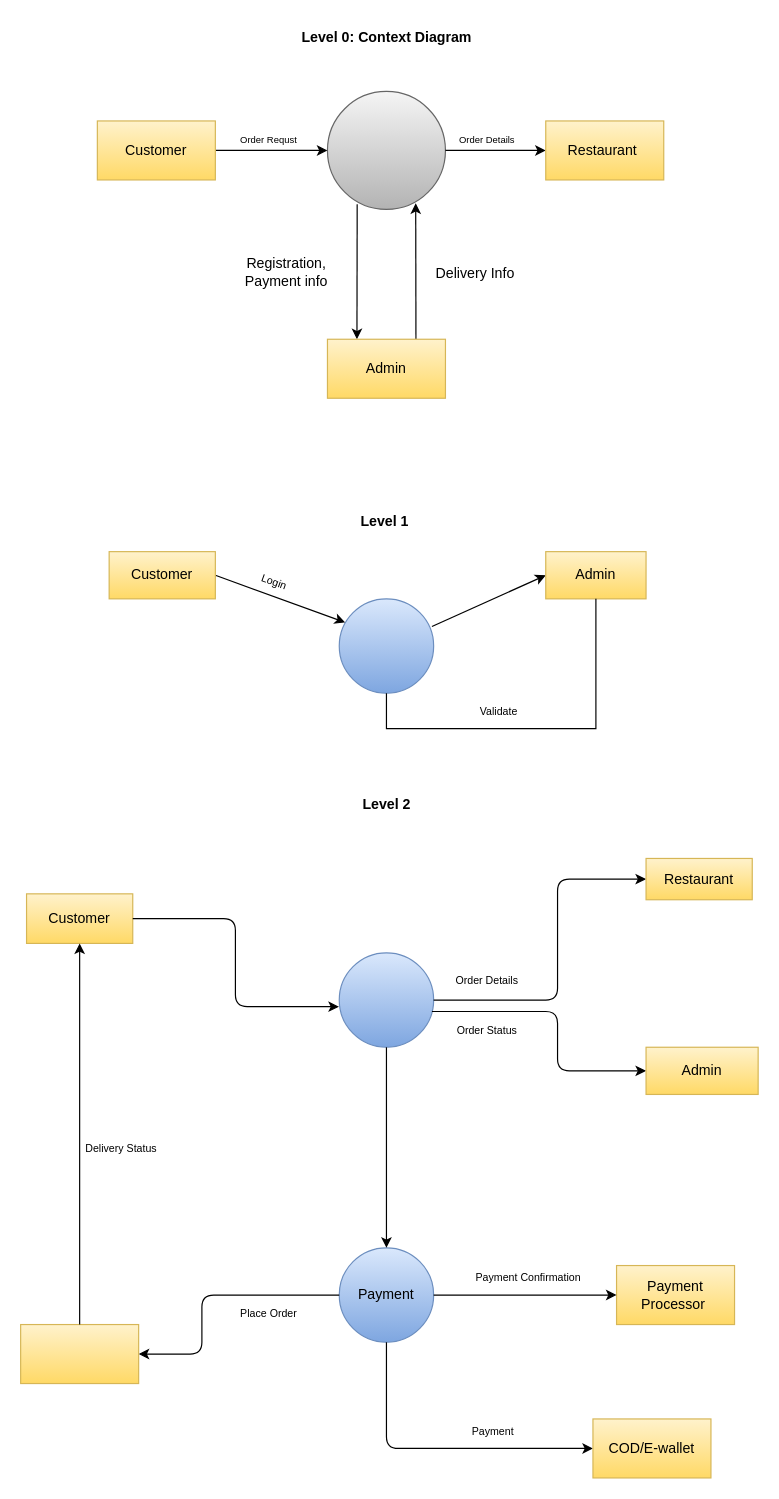
Some shapes in this 779 by 1499 pixel diagram are drawn without their labels. The centre of each missing label's shape, as x and y in pixels:
"CRAVECART" belongs at pixel 385 149.
"Order" belongs at pixel 386 999.
"Registration" belongs at pixel 386 645.
"Transaction" belongs at pixel 79 1353.
